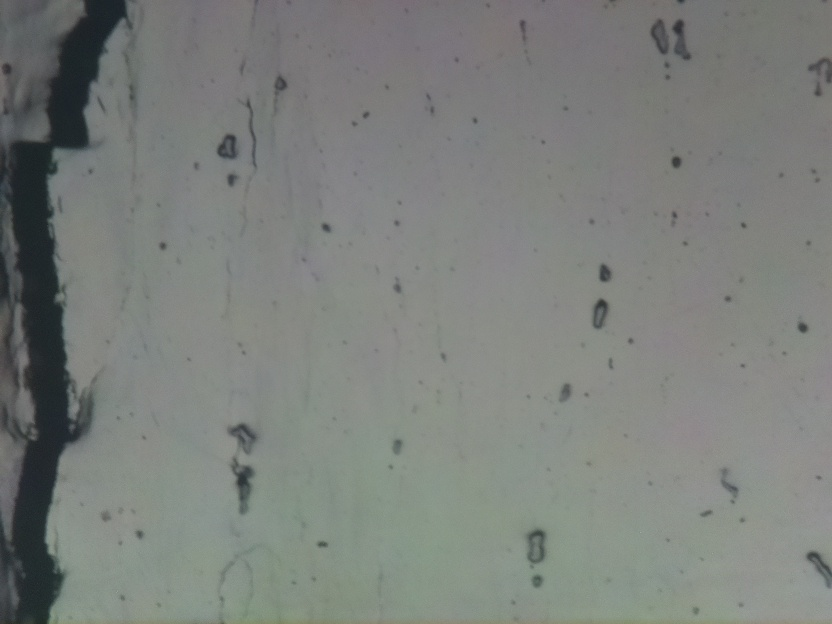crack: (7, 0, 126, 623)
